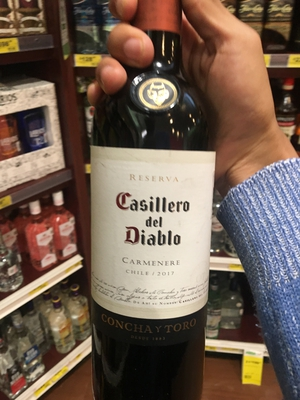casillero del diablo carmenere: (77, 3, 248, 391)
